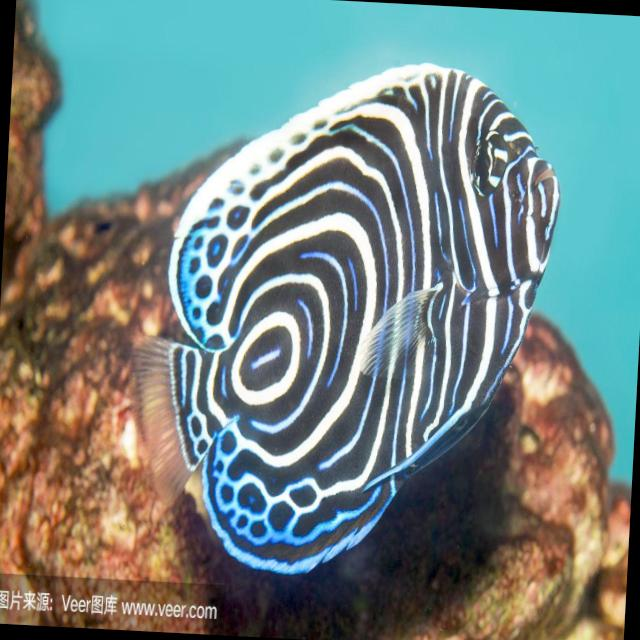AngelFish: (135, 48, 568, 590)
